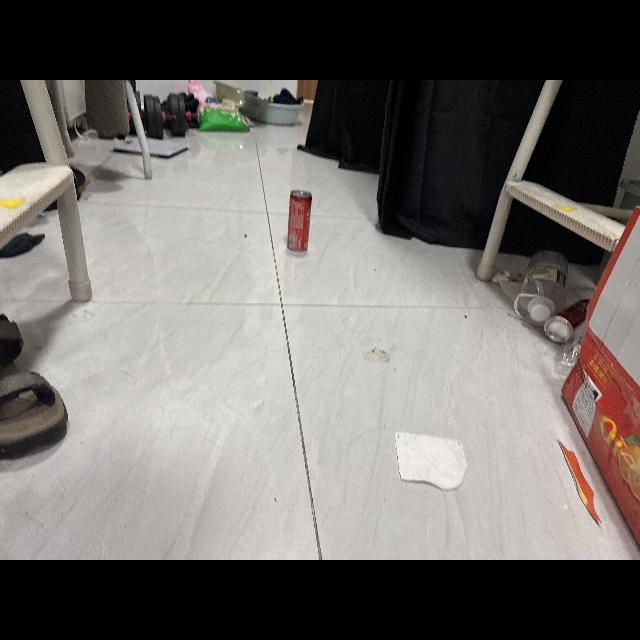Cola: (283, 186, 317, 256)
